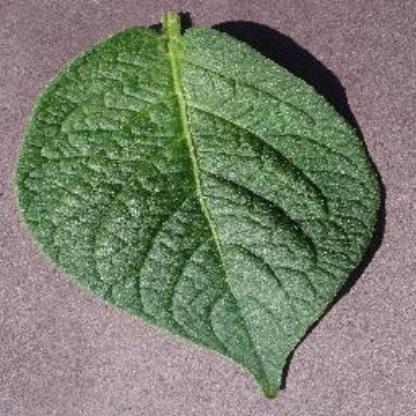Healthy-plant: (17, 12, 397, 396)
